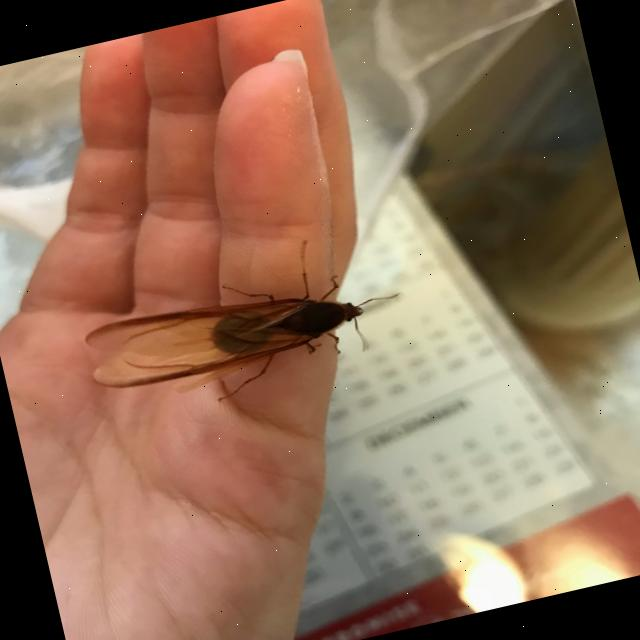Alive-Male-Alate: (73, 220, 415, 428)
